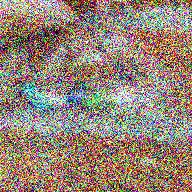러키펜정: (112, 89, 134, 106)
씨엠지세파클러캡슐: (47, 92, 87, 109)
에르도캡슐: (21, 83, 50, 114)
휴티렌정: (83, 92, 112, 109)
